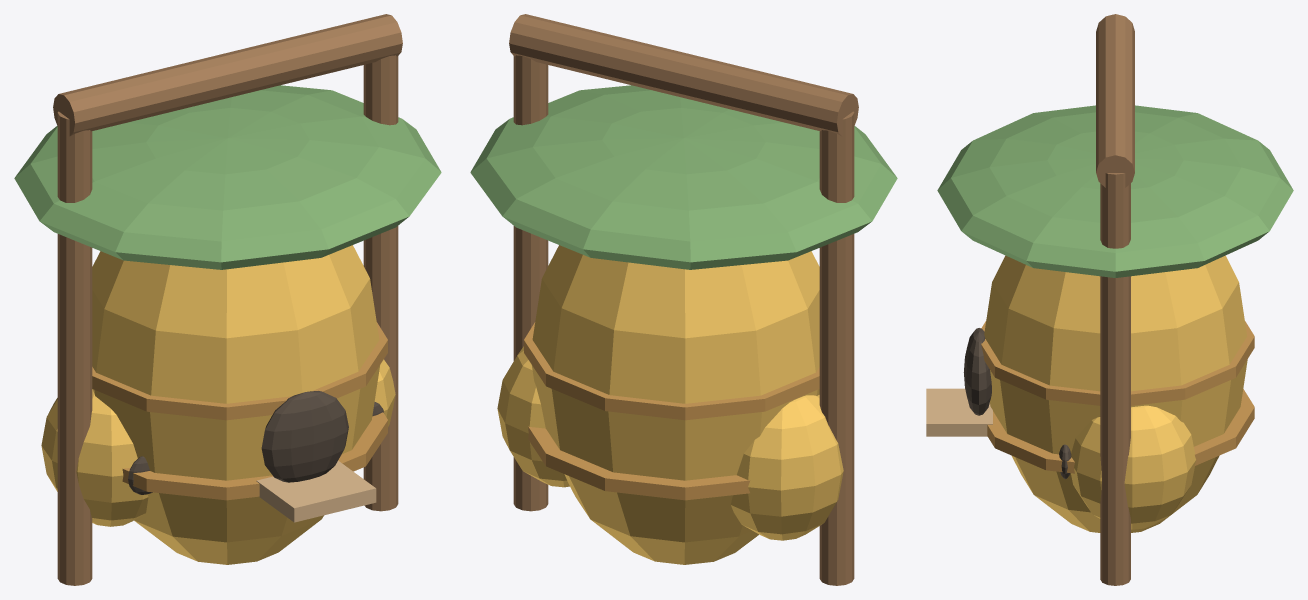
File: BeeLantern2.fbx
The picture shows the model from 3 angles, left to right: view 1: azimuth 30°, elevation 25°; view 2: azimuth 150°, elevation 25°; view 3: azimuth 270°, elevation 25°; orthographic projection. The views are drawn at different scales.
Visible parts, largest first — view 1: Honey lantern body.001, Honey roof.001, Hanging garden beam.001, Hanging garden post.002, Hanging garden post.003, Companion honey cell, Hive entrance.001, Amber honey band.002, Landing perch.001, Amber honey band.001, Companion honey cell.001; view 2: Honey lantern body.001, Honey roof.001, Hanging garden beam.001, Hanging garden post.002, Companion honey cell, Hanging garden post.003, Amber honey band.002, Amber honey band.001, Companion honey cell.001; view 3: Honey roof.001, Honey lantern body.001, Hanging garden post.003, Companion honey cell.001, Hanging garden beam.001, Amber honey band.002, Amber honey band.001, Landing perch.001, Hive entrance.001.
Boxes of the visible parts, x1,y1,x2,y2 form: Honey lantern body.001: [92, 245, 379, 564]; Honey roof.001: [14, 85, 441, 269]; Hanging garden beam.001: [53, 14, 402, 136]; Hanging garden post.002: [57, 111, 92, 585]; Hanging garden post.003: [363, 55, 398, 511]; Companion honey cell: [41, 389, 148, 526]; Hive entrance.001: [261, 391, 348, 482]; Amber honey band.002: [92, 322, 387, 420]; Landing perch.001: [256, 460, 376, 522]; Amber honey band.001: [122, 412, 387, 500]; Companion honey cell.001: [374, 359, 395, 426]; Honey lantern body.001: [532, 245, 819, 564]; Honey roof.001: [470, 85, 897, 269]; Hanging garden beam.001: [509, 14, 858, 136]; Hanging garden post.002: [819, 111, 854, 585]; Companion honey cell: [731, 395, 843, 540]; Hanging garden post.003: [513, 55, 548, 511]; Amber honey band.002: [524, 322, 819, 420]; Amber honey band.001: [528, 426, 750, 500]; Companion honey cell.001: [497, 346, 569, 487]; Honey roof.001: [937, 105, 1293, 277]; Honey lantern body.001: [984, 255, 1247, 532]; Hanging garden post.003: [1100, 173, 1130, 585]; Companion honey cell.001: [1071, 405, 1195, 529]; Hanging garden beam.001: [1096, 14, 1134, 187]; Amber honey band.002: [981, 321, 1254, 405]; Amber honey band.001: [987, 389, 1254, 473]; Landing perch.001: [926, 388, 992, 436]; Hive entrance.001: [963, 328, 991, 415].
Bounding box in the file's own units: 138 × 175 × 132.
